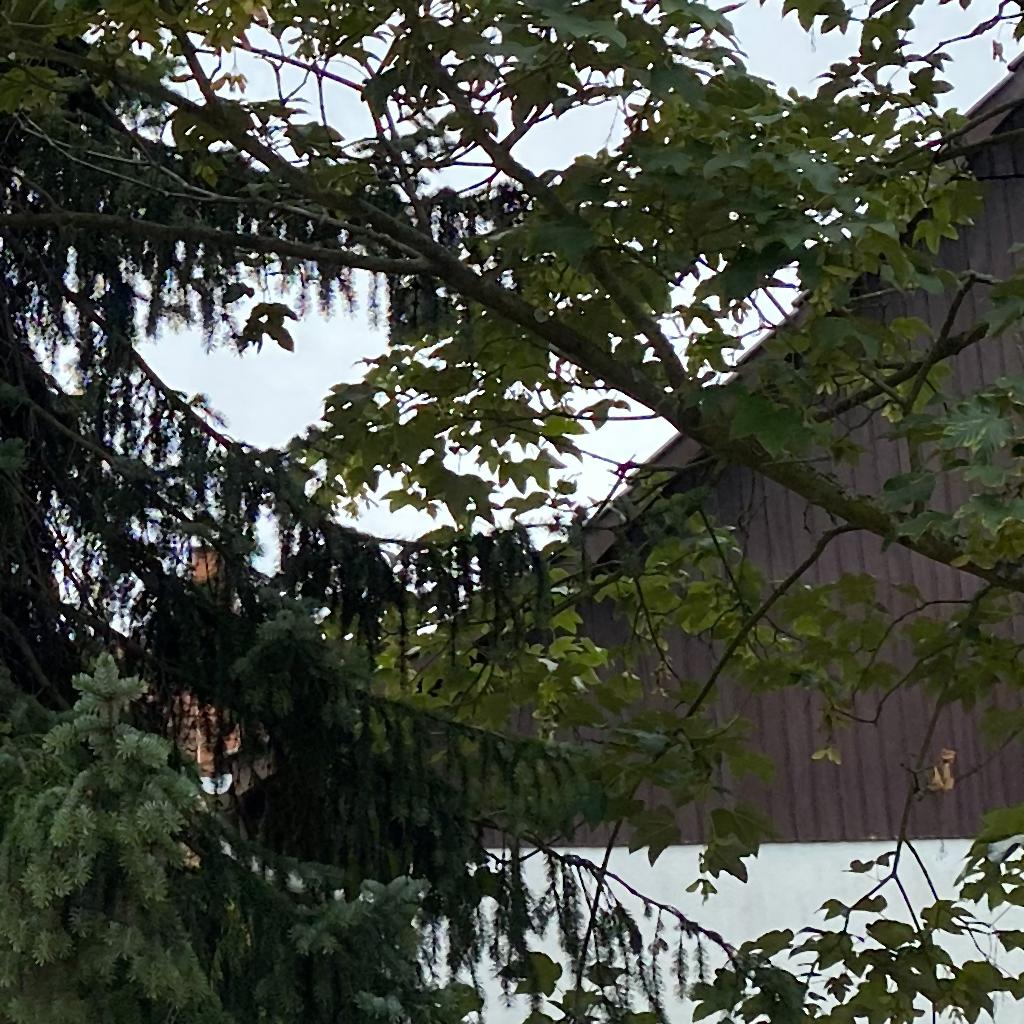tree: (1, 1, 1023, 1023), (1, 1, 711, 1024)
